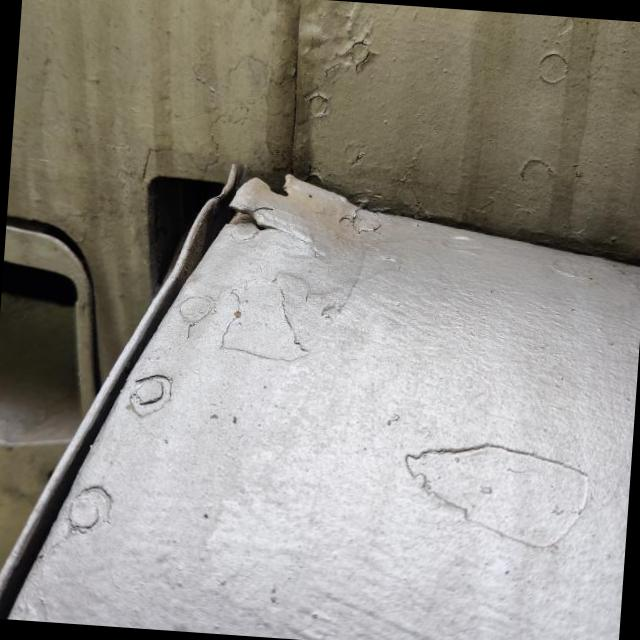Crack: (231, 203, 263, 235)
